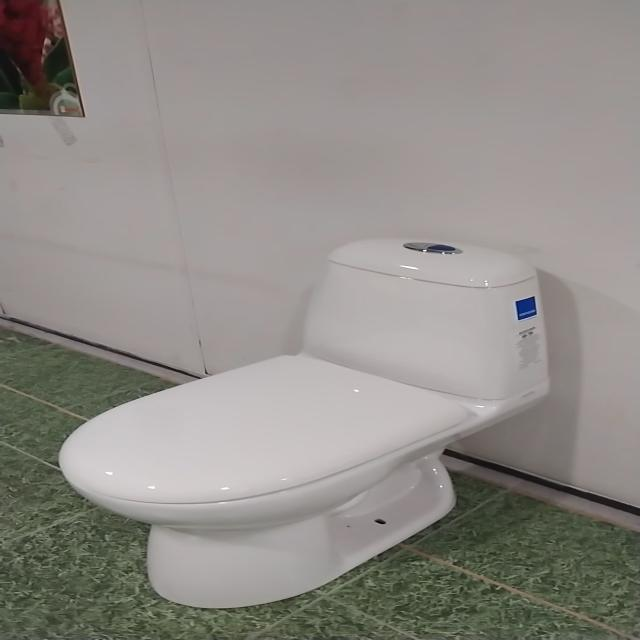toilet: (56, 232, 563, 618)
